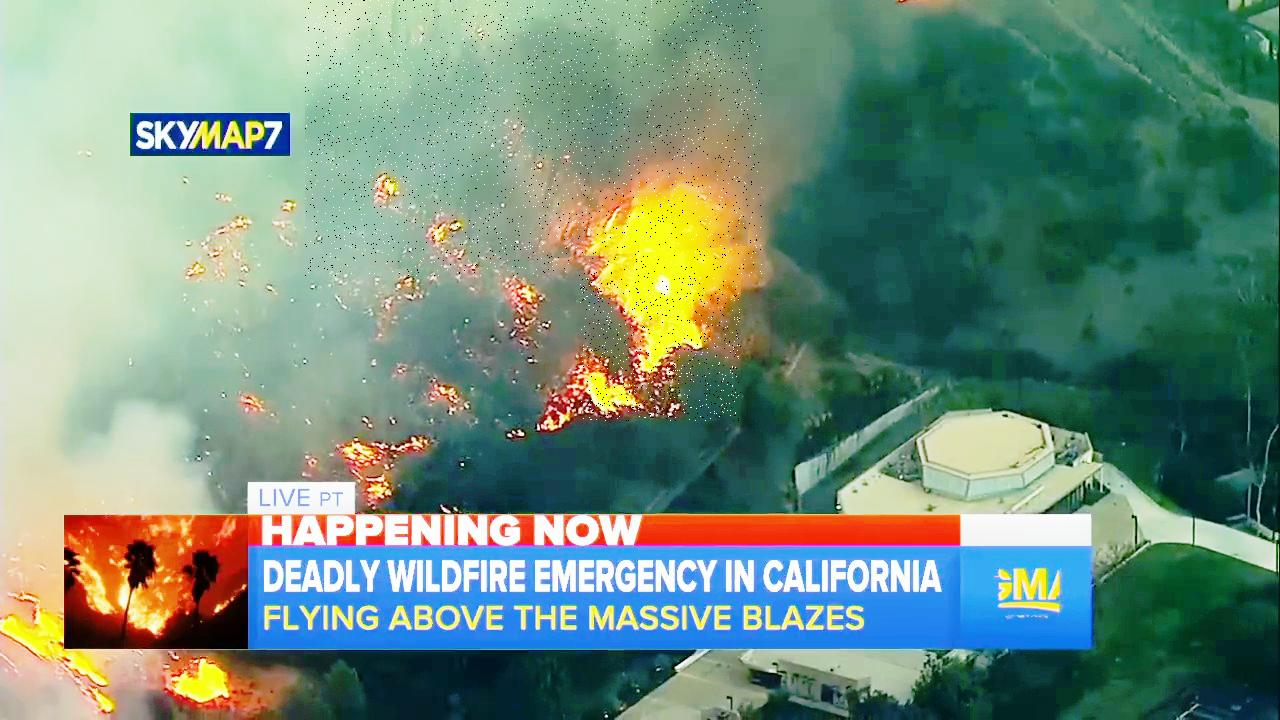fire: (580, 208, 741, 421)
smoke: (305, 0, 762, 276)
